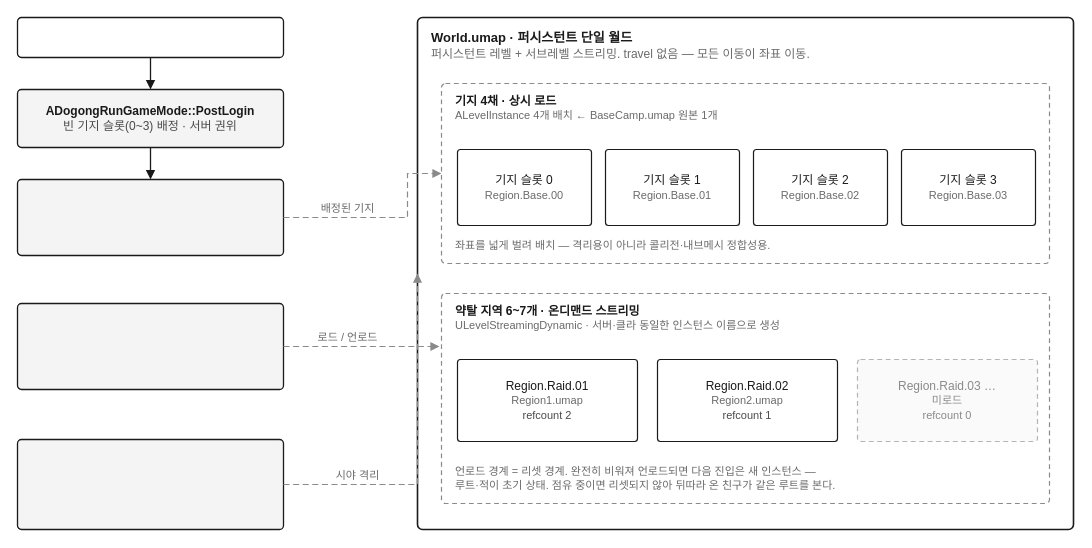
The diagram is 1092 pixels wide and 548 high, and some of its shapes have lost their labels. Here are the shapes that lost their labels. From the top down, the centre of each, then its label:
[150,37]: 플레이어 접속
[150,217]: ADogongPlayerState AssignedBaseCampIndex CurrentRegion = RegionId (정본)
[150,346]: UDogongRegionStreamingSubsystem 진입 = 로드 (refcount++) 마지막 이탈 = 언로드 = 다음 진입 시 리셋
[150,484]: 넷 렐러번시 게이트 IsNetRelevantFor 오버라이드 RegionId 다르면 컬링 = 개인 기지 소프트 격리
